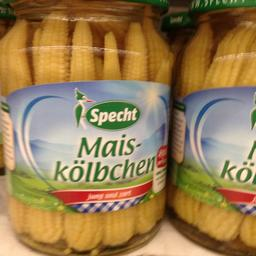corn: (0, 0, 173, 255), (168, 0, 255, 251)
